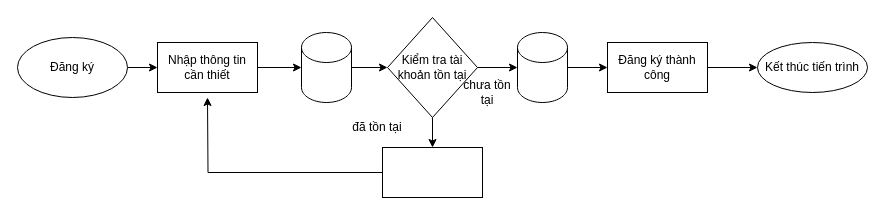
Some shapes in this 885 by 215 pixel diagram are drawn without their labels. The shapes that lost their labels are listed below. From the top down, each one's box as (x1, y1, x2, y2) in pixels, then its label:
(300, 32, 352, 102): Kết nối database
(516, 32, 568, 102): Cập nhật database
(382, 146, 482, 198): Đăng ký thất bại
